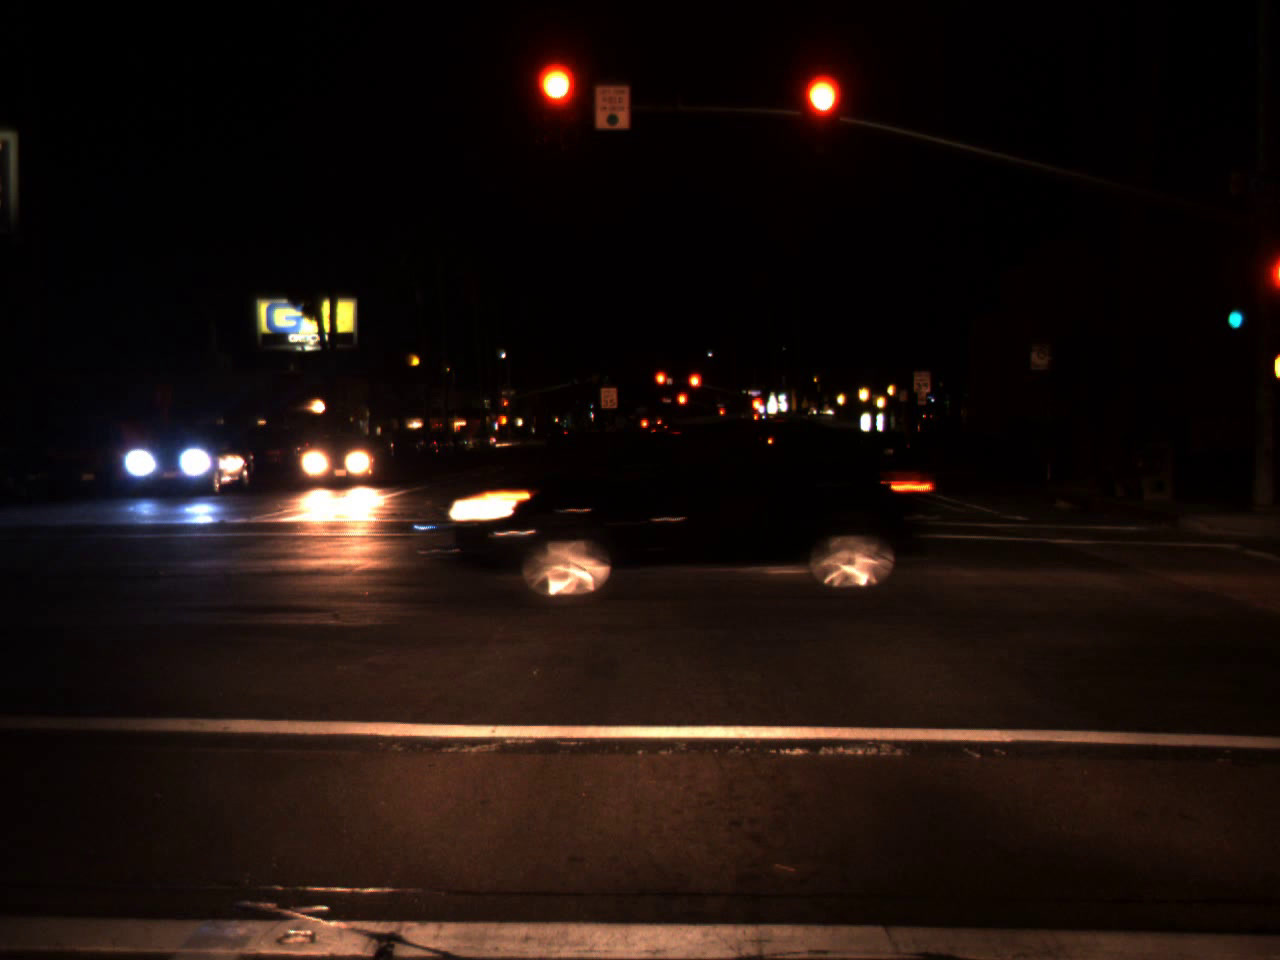stop: (537, 65, 577, 143), (801, 75, 841, 153), (653, 369, 668, 401), (686, 372, 702, 401), (675, 391, 688, 418), (750, 396, 763, 414), (719, 407, 725, 419), (502, 401, 508, 411)
